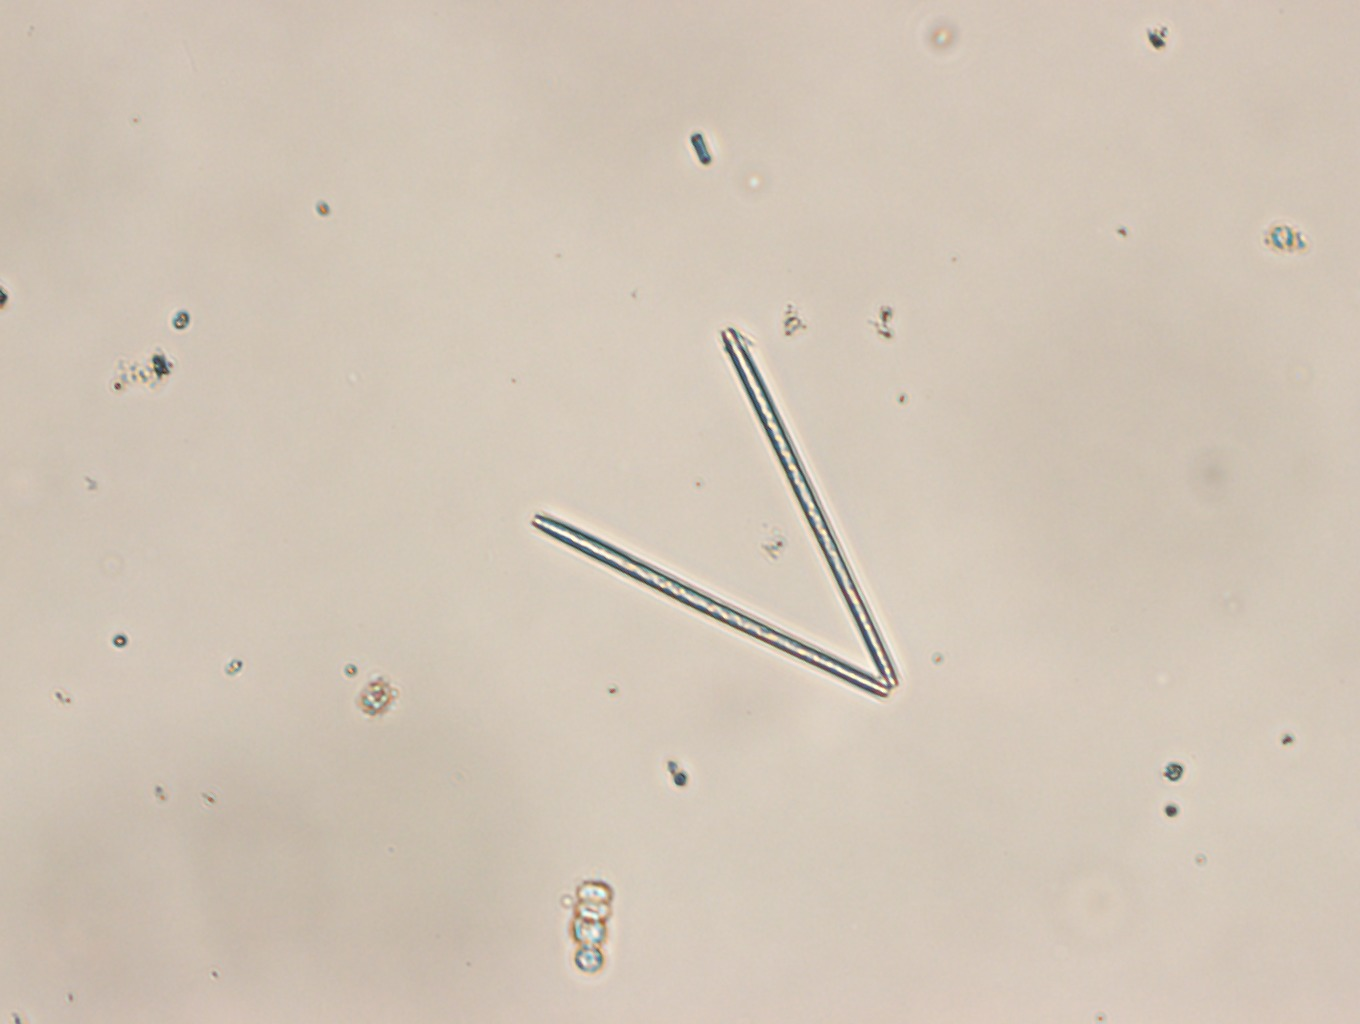thalassionema frauenfeldii: (530, 325, 900, 700)
